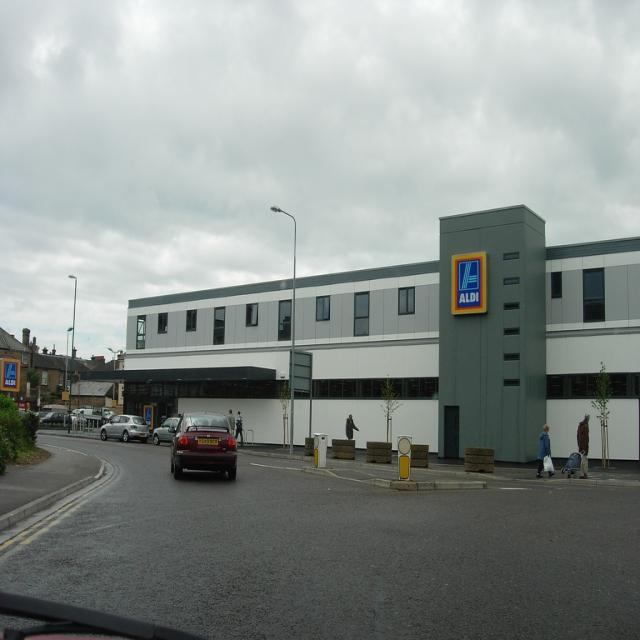aldi: (453, 253, 487, 314), (2, 360, 22, 393)
